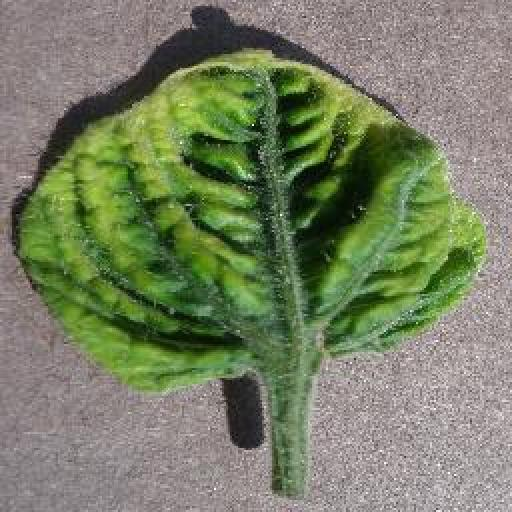Yellow Leaf Curl Virus: (14, 47, 484, 392)
